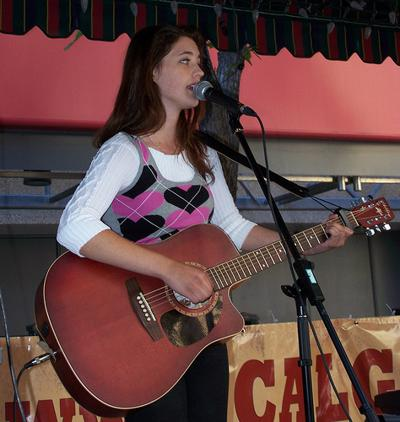person: (57, 24, 354, 422)
